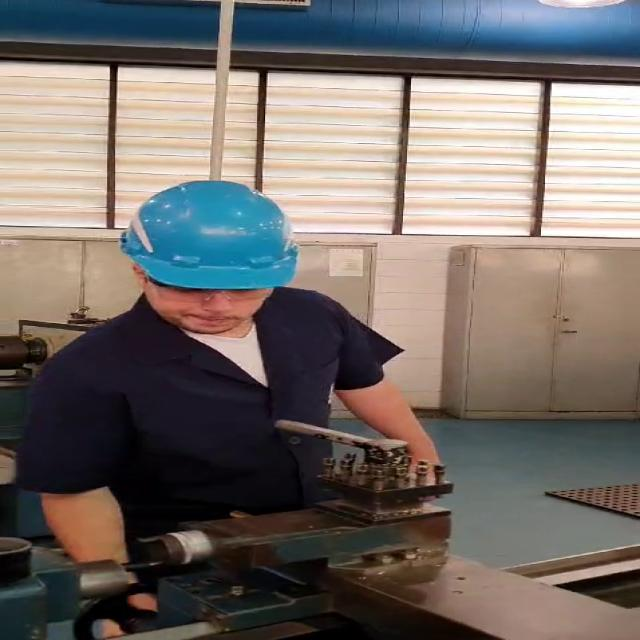oculos-epi: (145, 275, 275, 304)
